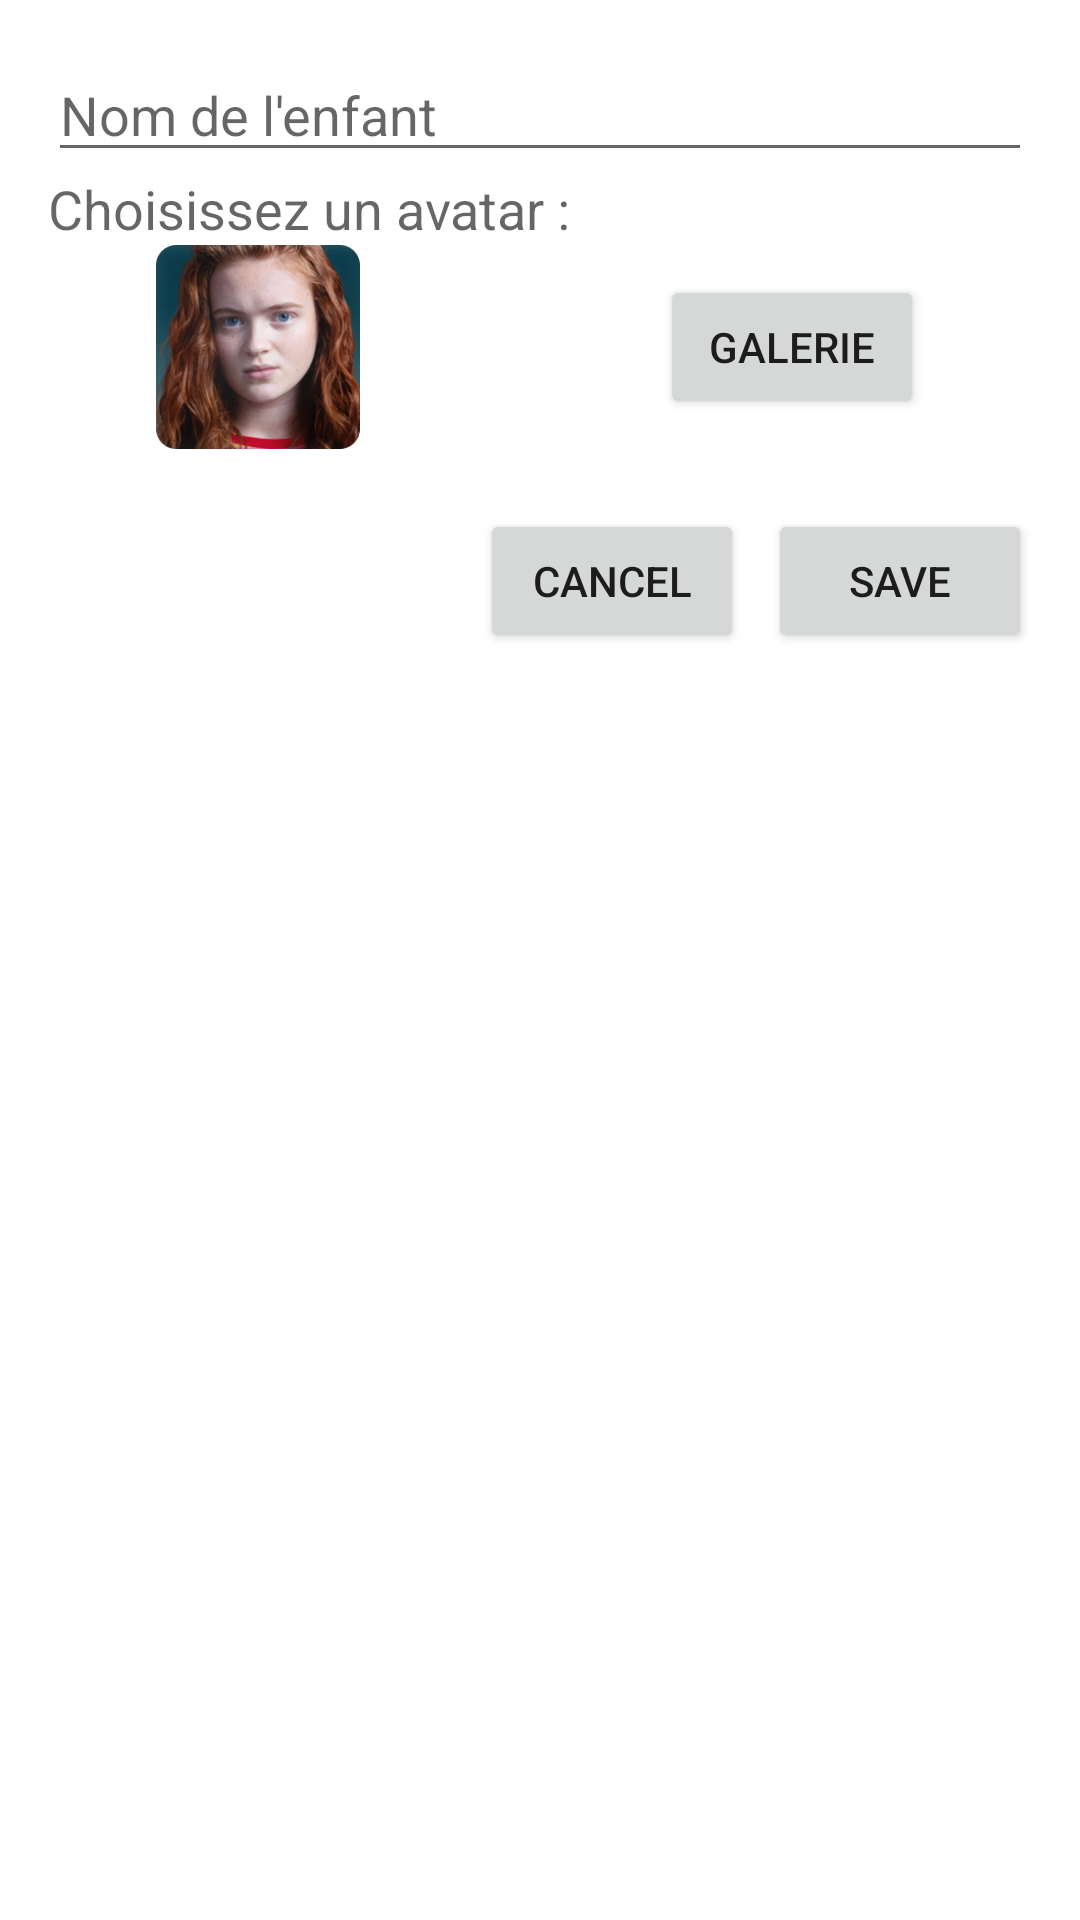

Locate icon controls on the screen. Image size 1080 × 1920, boxes as [left=x1, top=y1, right=x2, bottom=y2].
Avatar Fille: [left=156, top=245, right=360, bottom=449]
